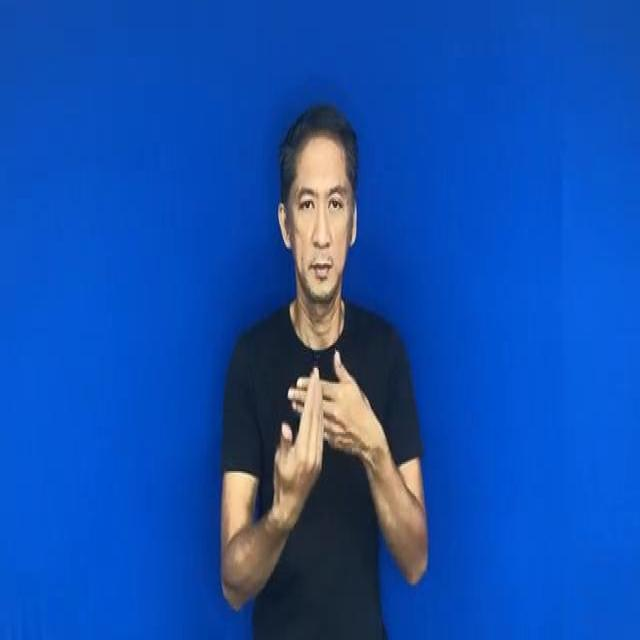bread: (267, 354, 390, 524)
